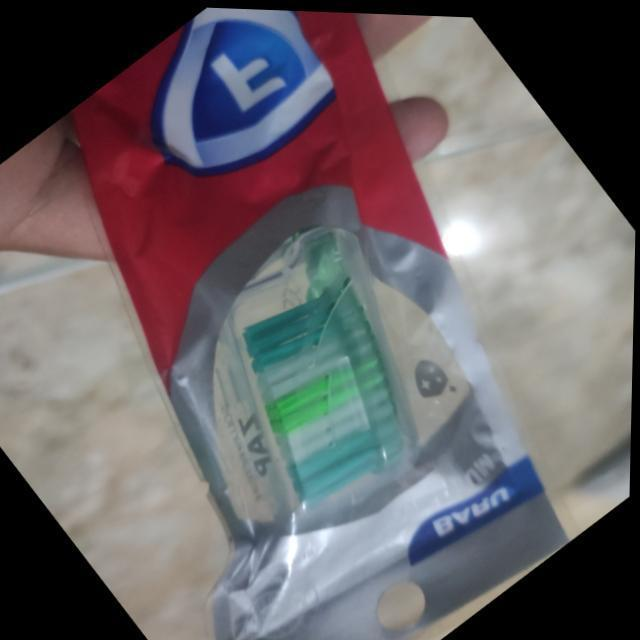toothbrush: (188, 6, 452, 526)
